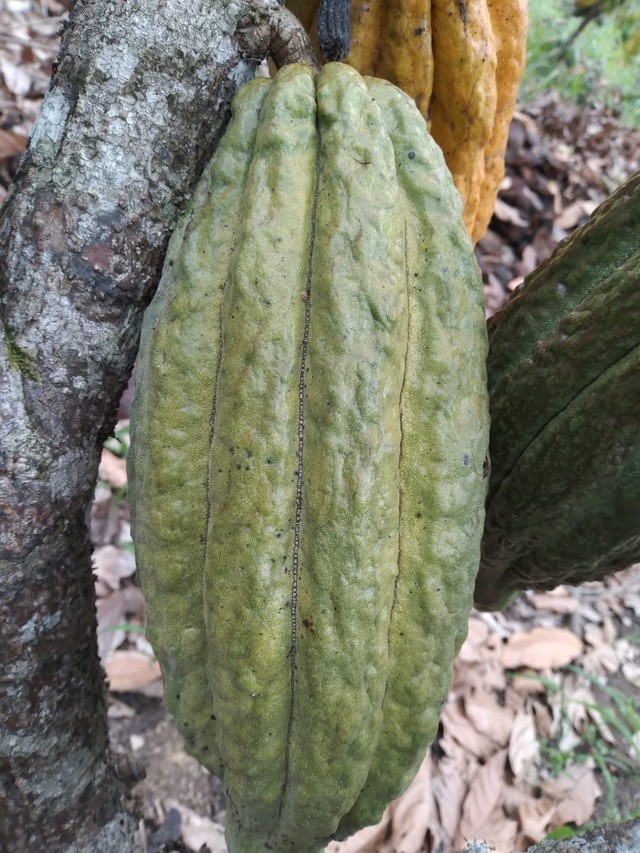Health: (113, 58, 507, 853)
